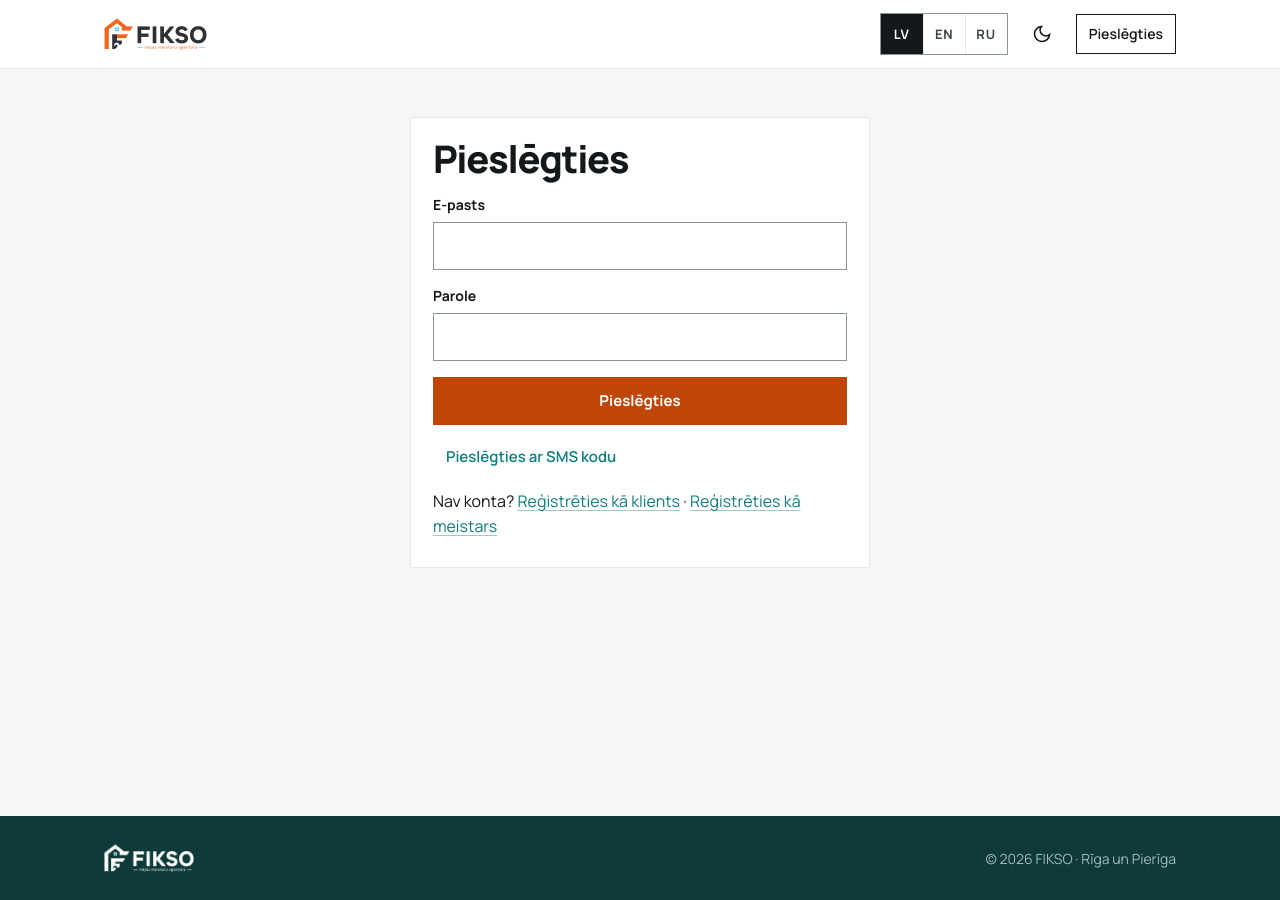
language switch › Latvian is the default; switching changes the whole page, the document language and is remembered
Expected: the heading "Pieslēgties" is shown, [433, 132, 628, 184]
Click the button with aria-label "English": (944, 34) [923, 14, 965, 54]
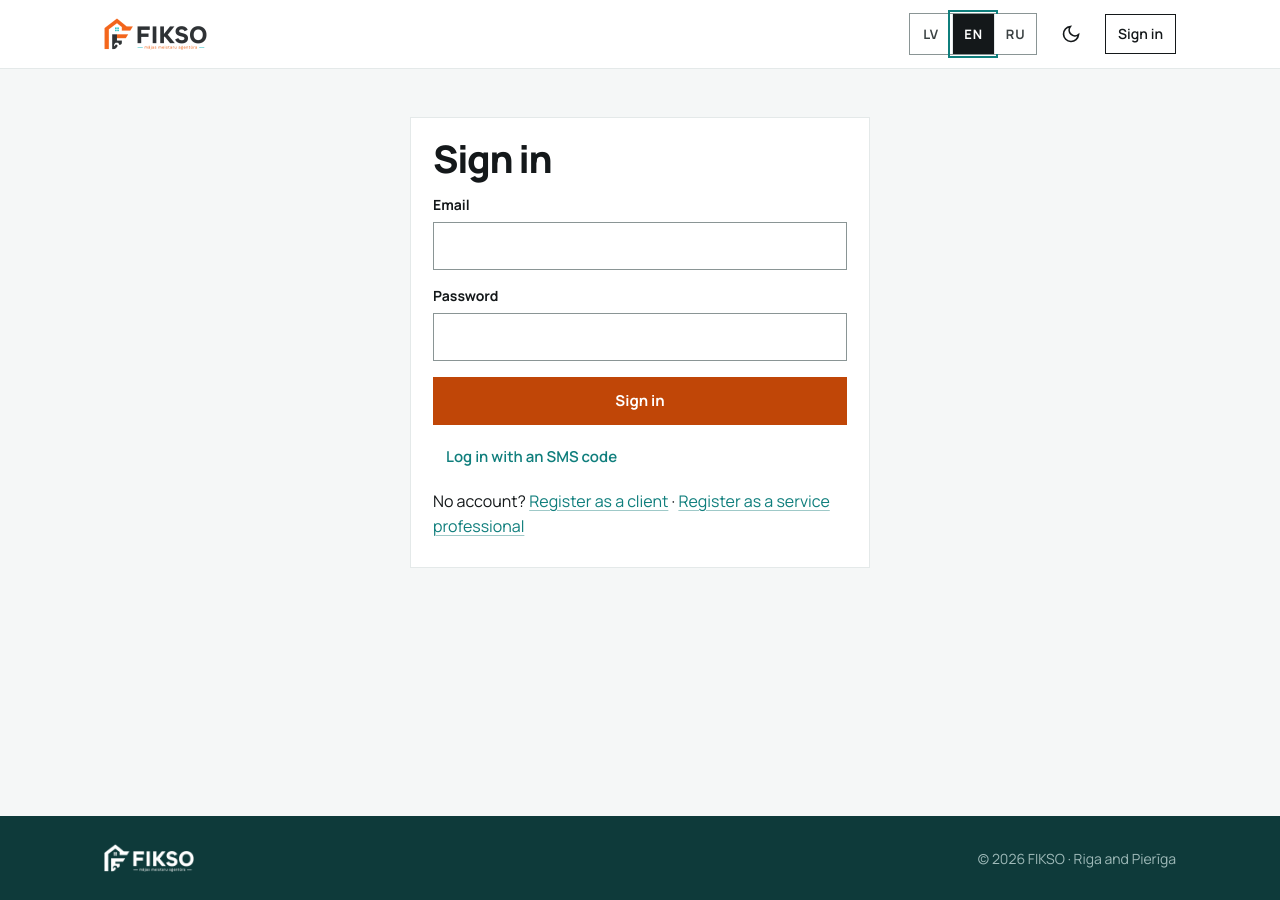
Expected: the heading "Sign in" is shown, [433, 132, 551, 184]
Expected: the link "Register as a client" is shown, [529, 490, 668, 512]
Expected: the element named "Language" is shown, [909, 13, 1037, 55]
Click the button with aria-label "Русский": (1015, 34) [994, 14, 1036, 54]
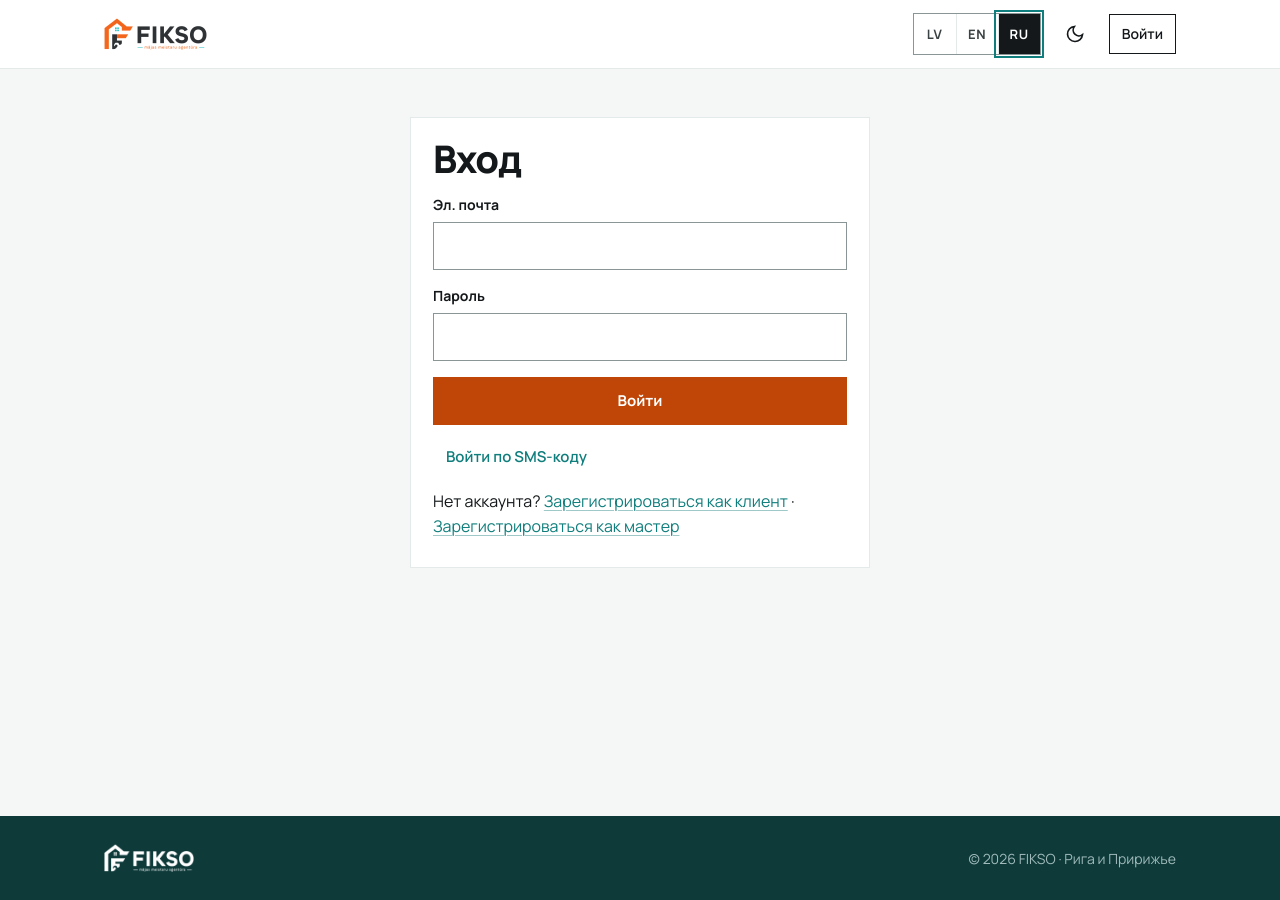
Expected: the heading "Вход" is shown, [433, 132, 521, 184]
Expected: the button "Войти" is shown, [433, 377, 847, 425]
Click the button with aria-label "Latviešu": (935, 34) [914, 14, 956, 54]
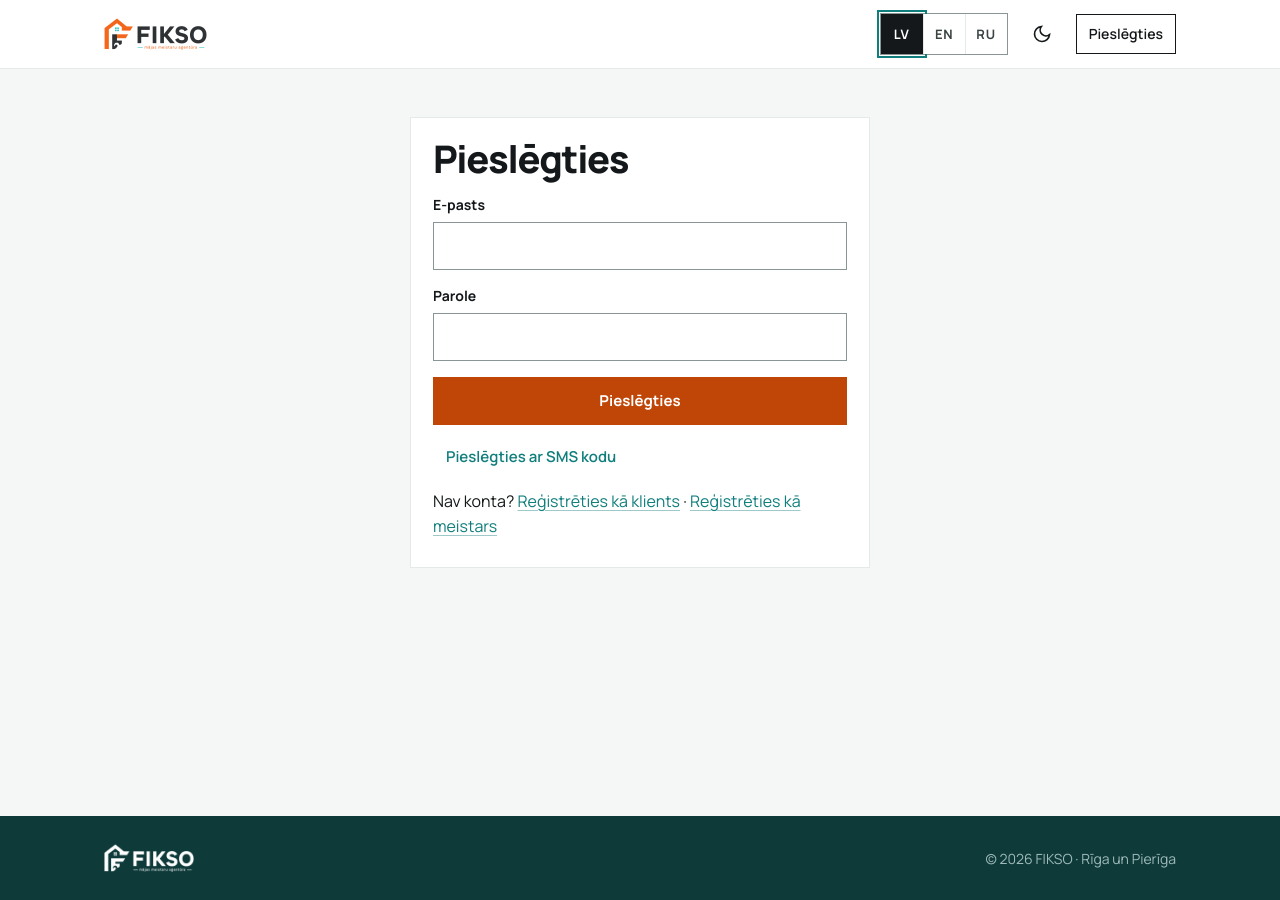
Expected: the heading "Pieslēgties" is shown, [433, 132, 628, 184]
